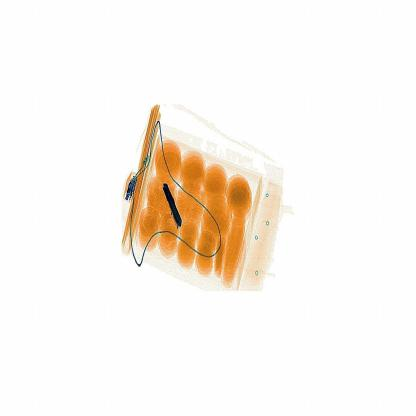knife: (154, 175, 199, 232)
